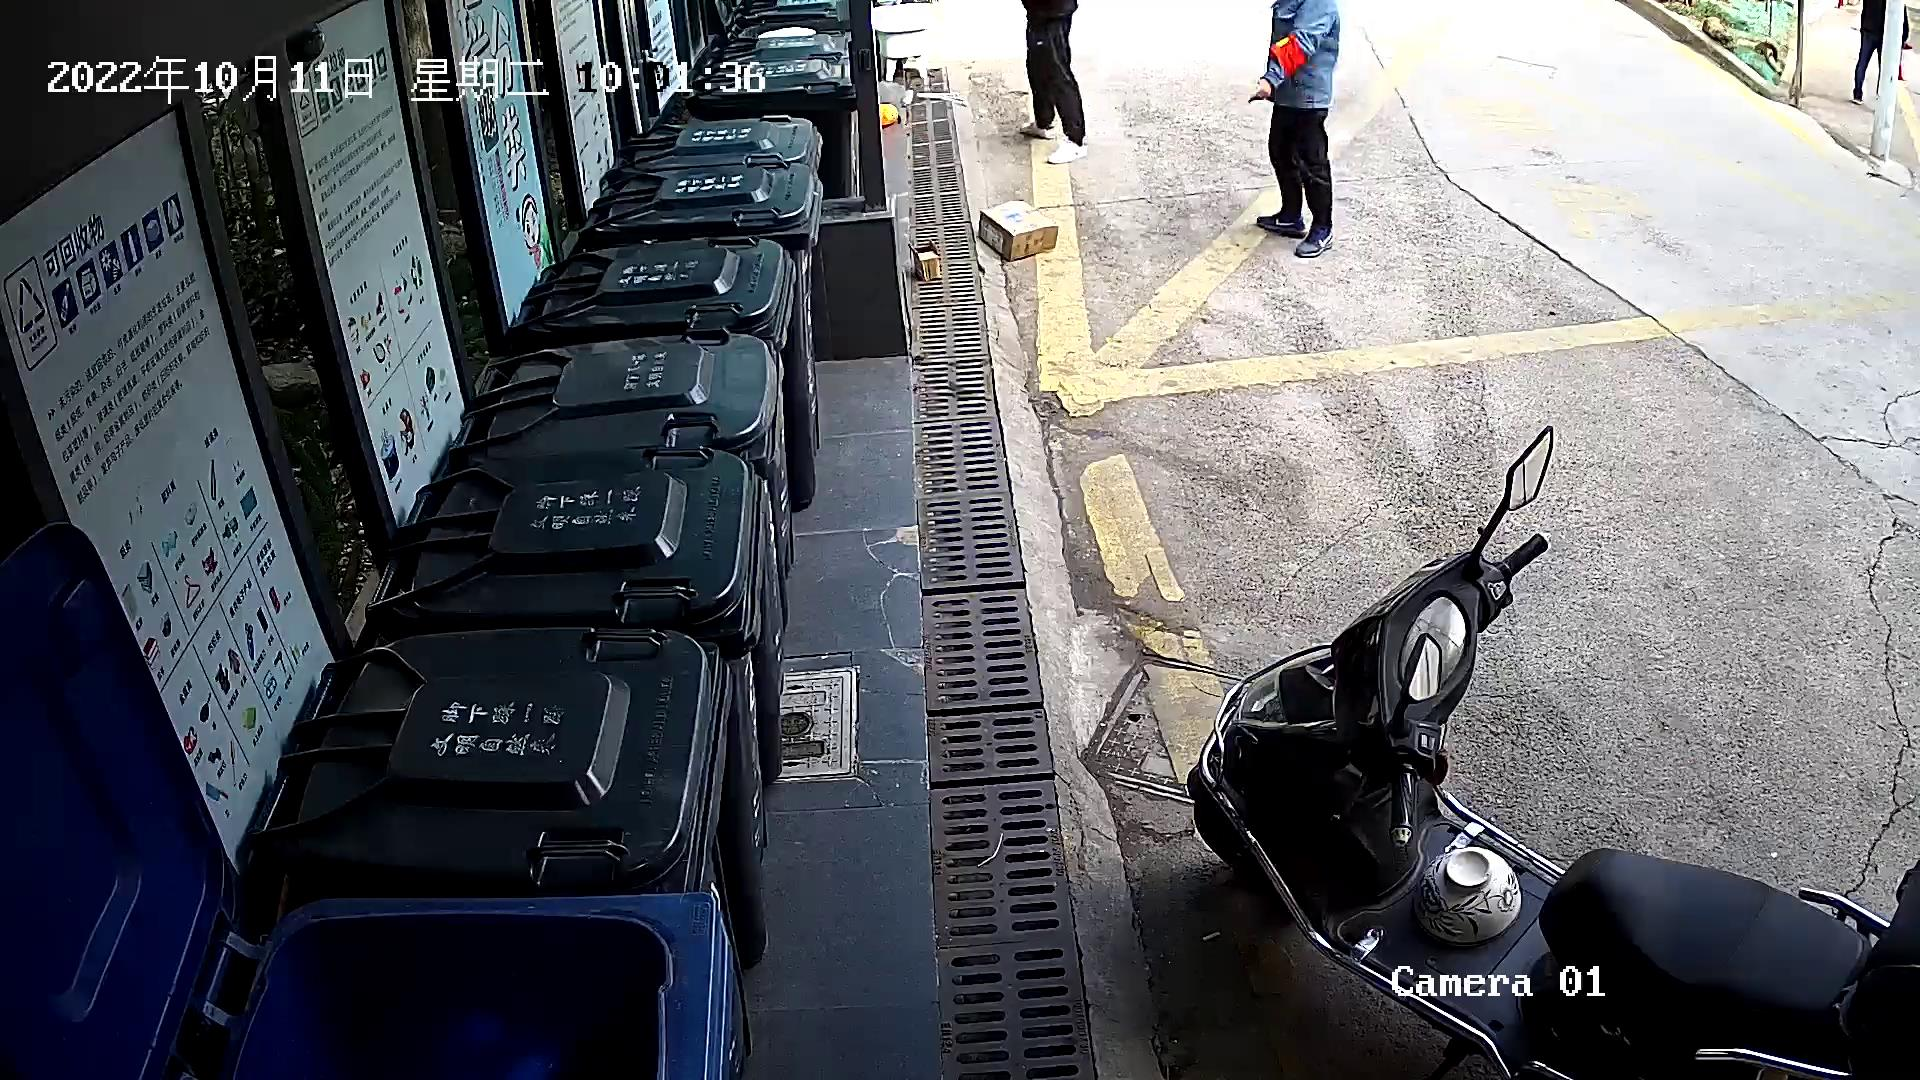zhizhipin: (973, 193, 1065, 268), (905, 233, 945, 284)
